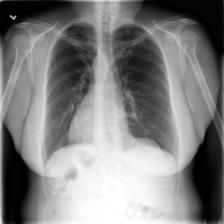normal: (41, 14, 182, 166)
